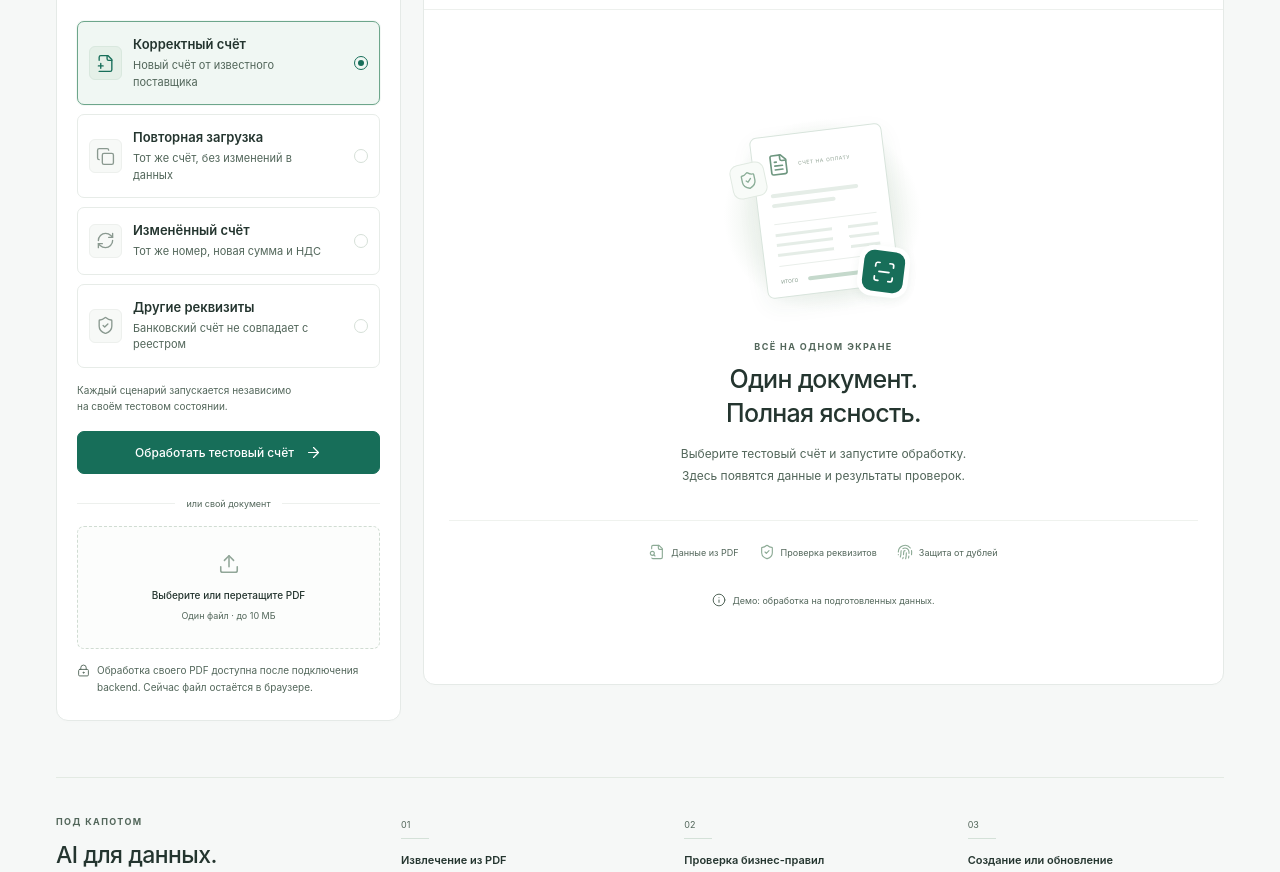
Test: Пользовательские действия в интерфейсе › останавливает загрузку и не показывает запоздалый результат
(page scrolled)
Step 1. Click the button "Обработать тестовый счёт" → (228, 452), box [77,431,380,474]
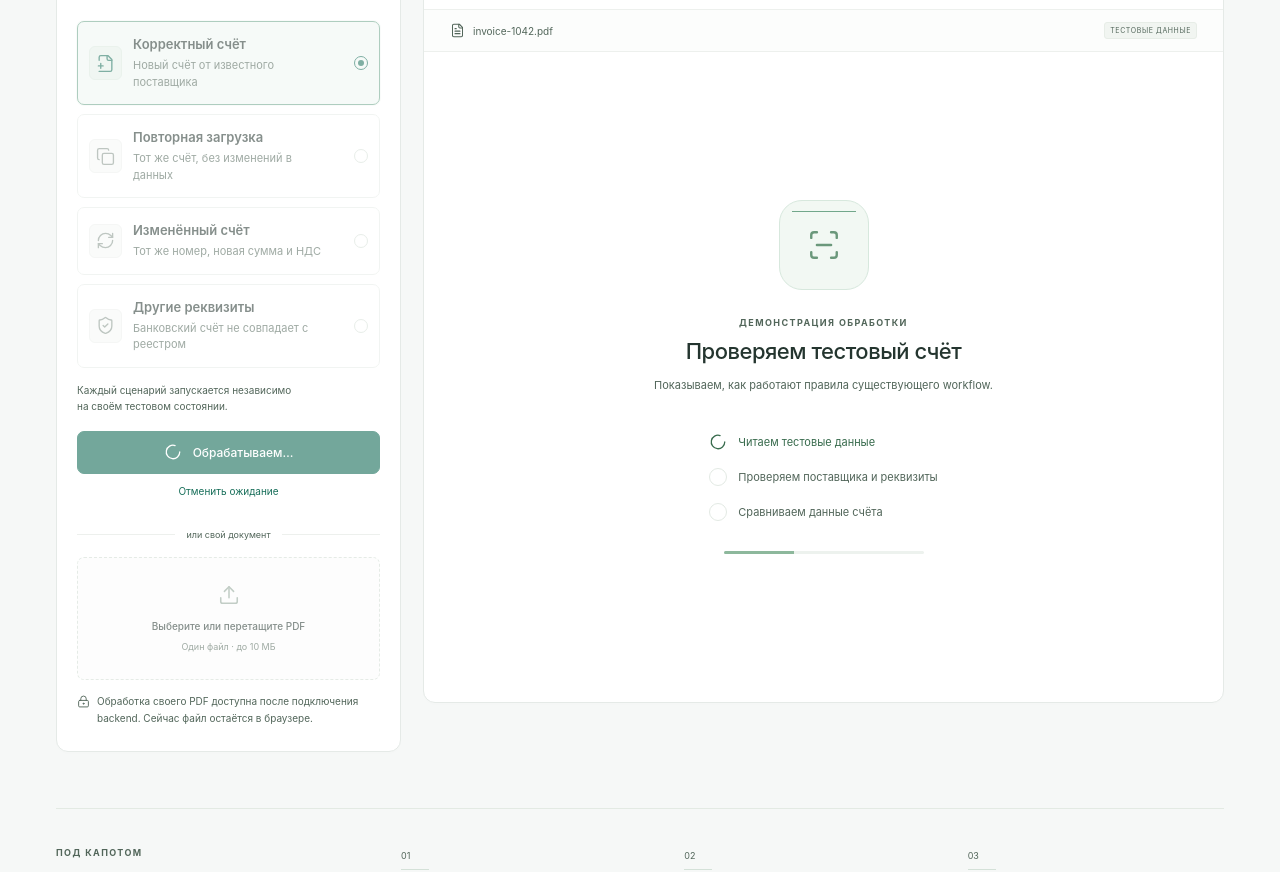
Step 2. Click the button "Отменить ожидание" → (228, 491), box [170,477,287,505]
Wait 2000 ms
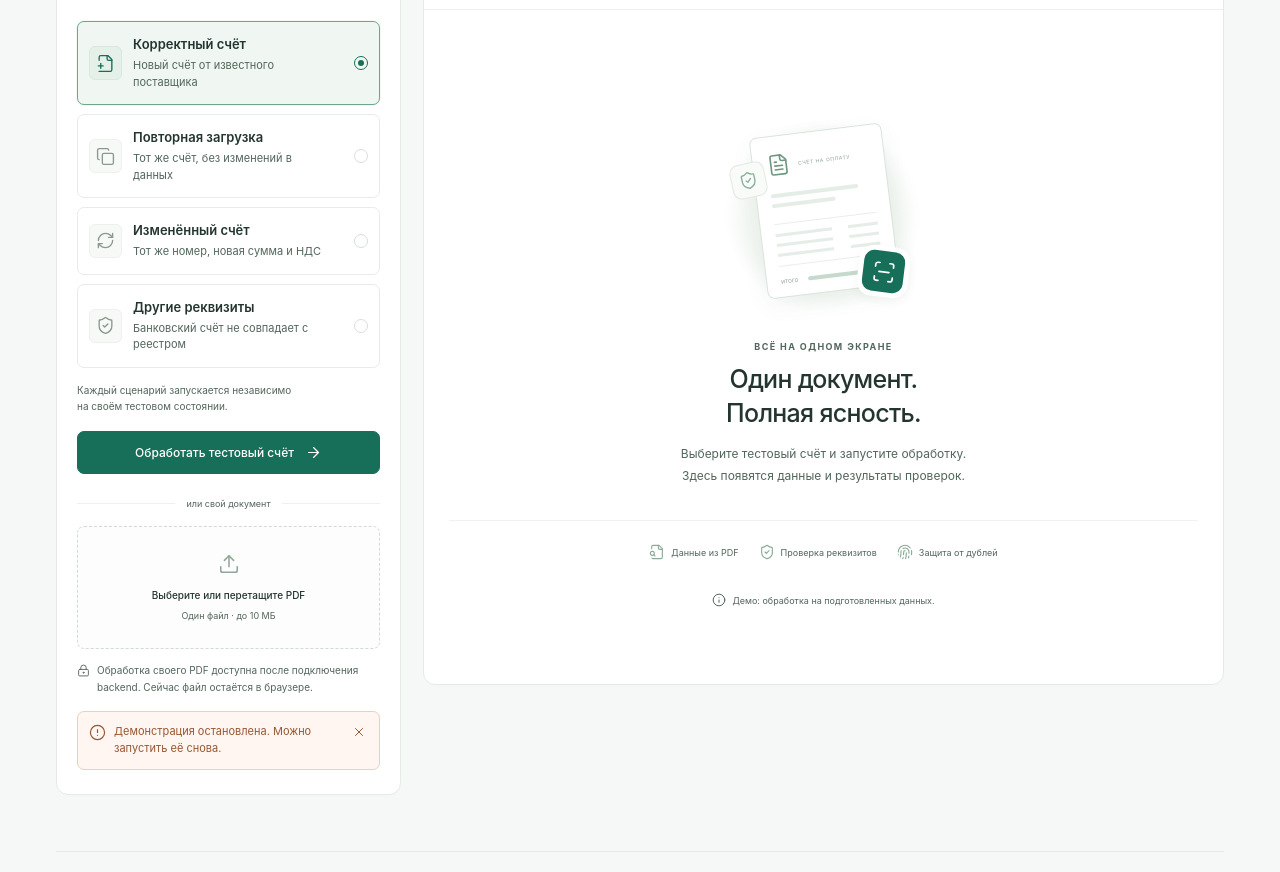
Expected: the message shows "Демонстрация остановлена", [114,724,311,755]
